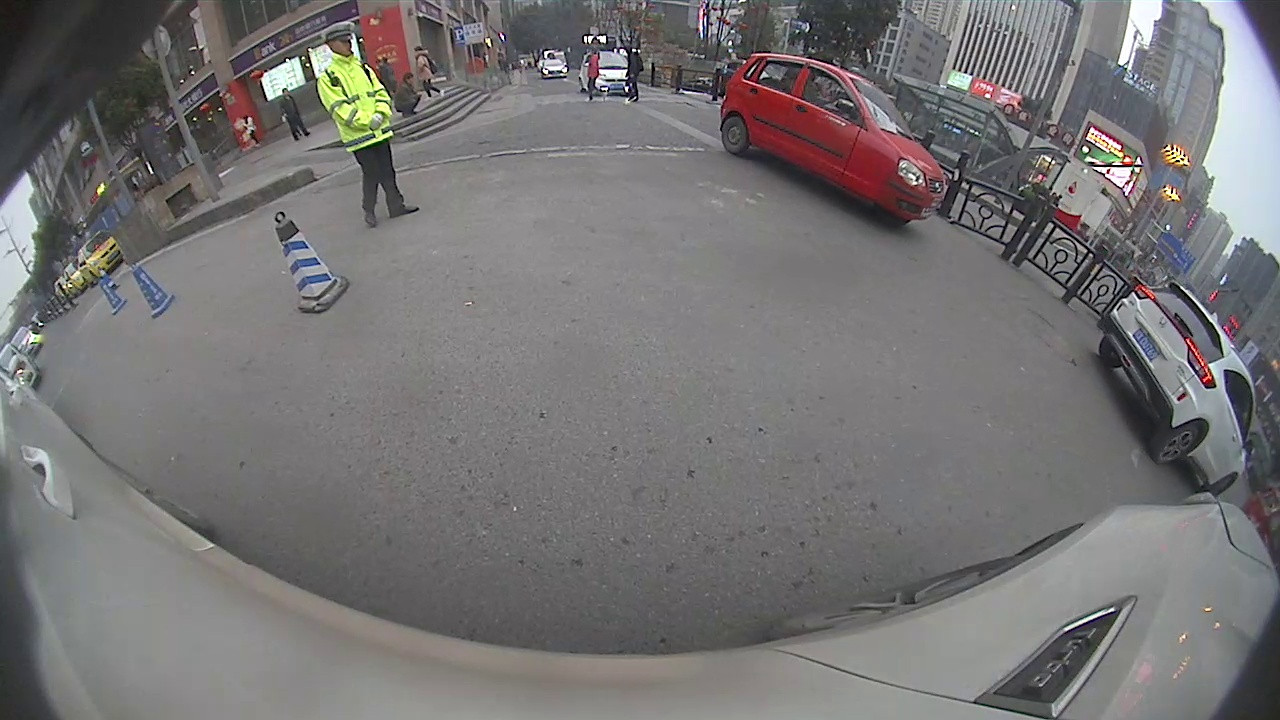car: (720, 52, 949, 232), (1097, 280, 1257, 495)
front: (1199, 478, 1236, 499)
person: (321, 26, 397, 230), (414, 45, 439, 103), (280, 90, 304, 145), (623, 47, 643, 107), (585, 45, 600, 102), (400, 74, 418, 118), (241, 116, 261, 149)
rear: (1149, 424, 1206, 463), (718, 115, 750, 152)
